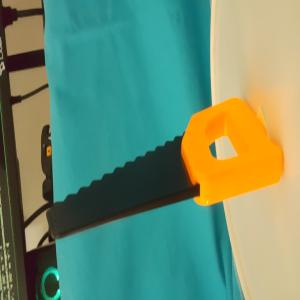serrote: (45, 95, 284, 243)
